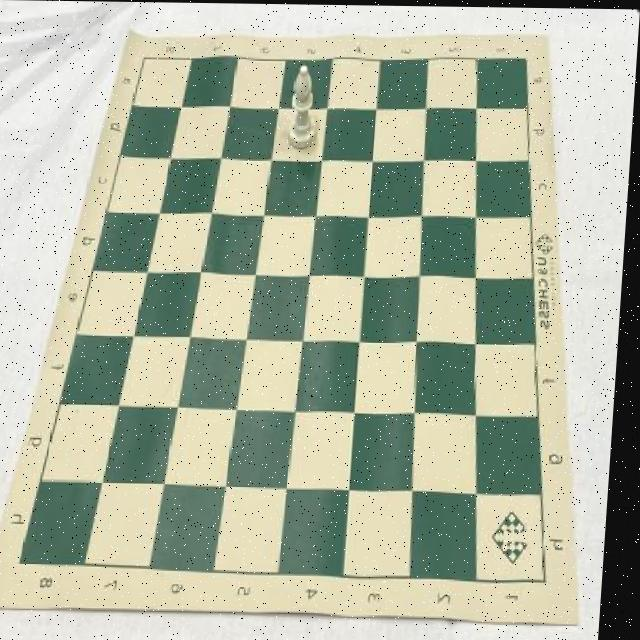black-rook: (288, 63, 323, 150)
